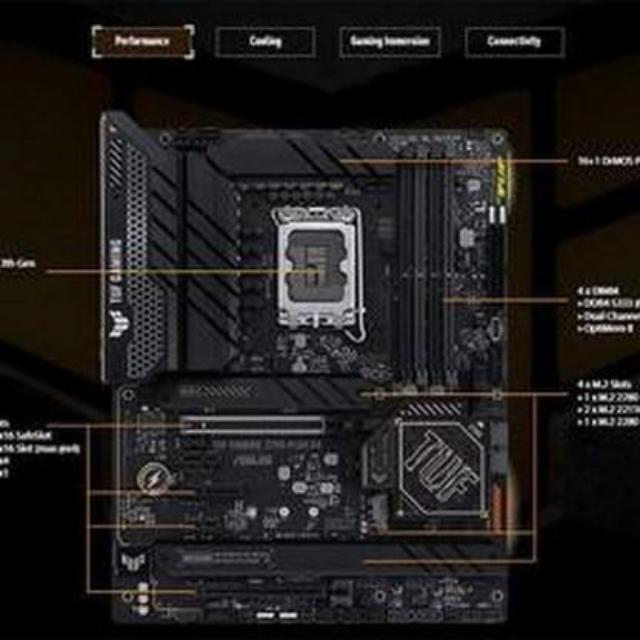Mainboard: (91, 100, 528, 640)
